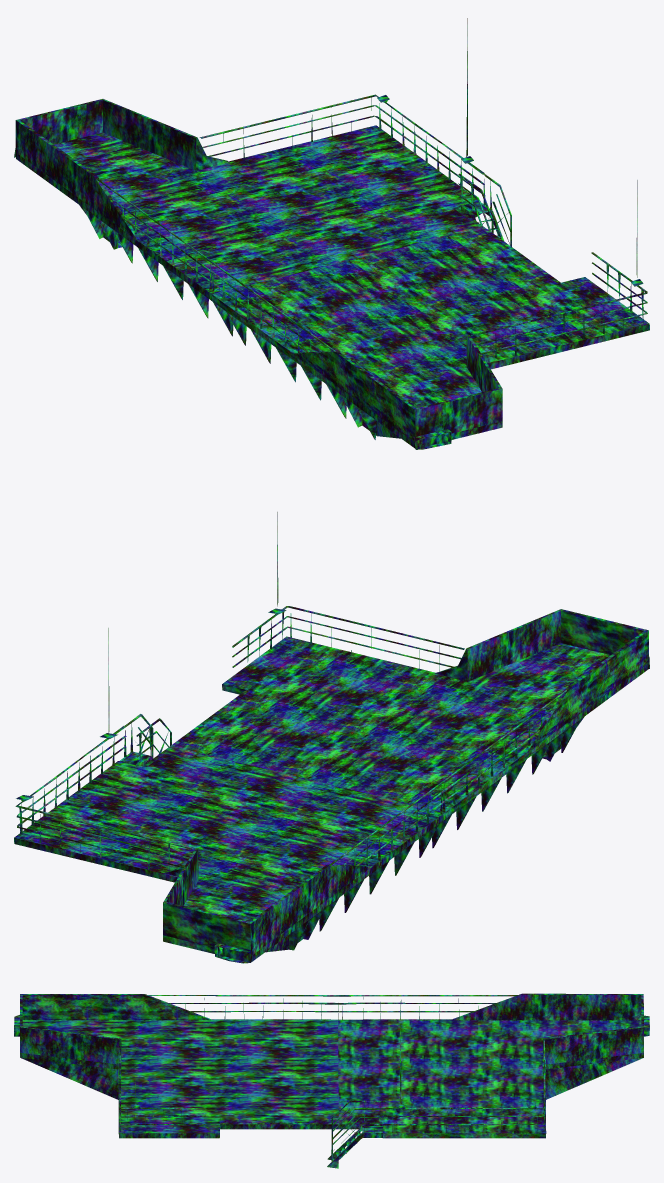
The model's file is SM_Captain_Top.fbx.
The picture shows the model from 3 angles, top to bottom: view 1: azimuth 30°, elevation 25°; view 2: azimuth 150°, elevation 25°; view 3: azimuth 270°, elevation 25°; orthographic projection. The views are drawn at different scales.
Visible parts, largest first — view 1: SM_Captain_Top_LOD0; view 2: SM_Captain_Top_LOD0; view 3: SM_Captain_Top_LOD0.
Part boxes in pixels (bbox=[...]): SM_Captain_Top_LOD0: bbox=[14, 18, 649, 449]; SM_Captain_Top_LOD0: bbox=[14, 512, 649, 963]; SM_Captain_Top_LOD0: bbox=[14, 993, 649, 1168].
Bounding box in the file's own units: 614 × 1417 × 440.
Materials: 1 (1 with a texture image).
